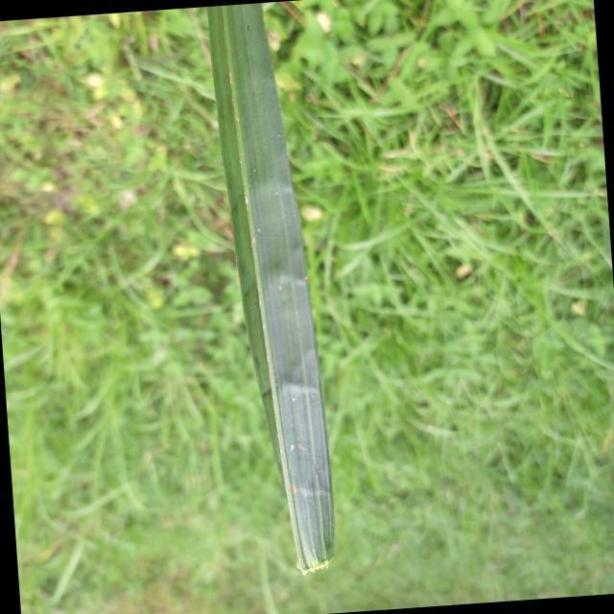Boron: (209, 0, 337, 577)
